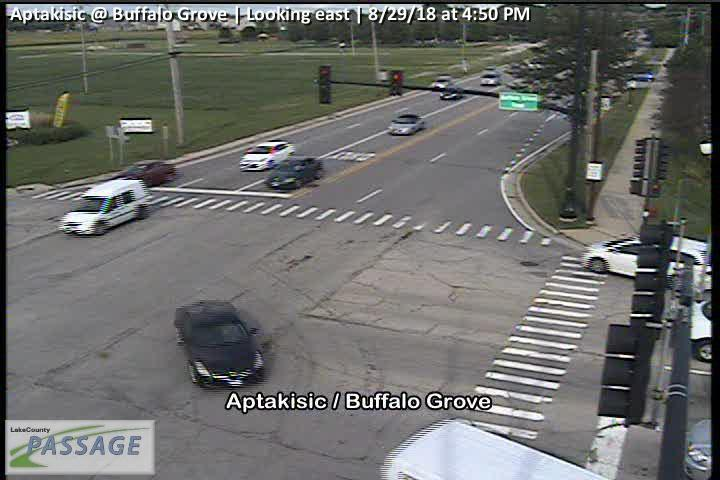SUV: (58, 179, 151, 235)
Sedan: (174, 300, 265, 387), (581, 232, 712, 292), (267, 157, 323, 190), (238, 140, 294, 173), (110, 160, 176, 185), (390, 114, 424, 138), (479, 70, 502, 86), (430, 74, 451, 90), (440, 86, 463, 100)
